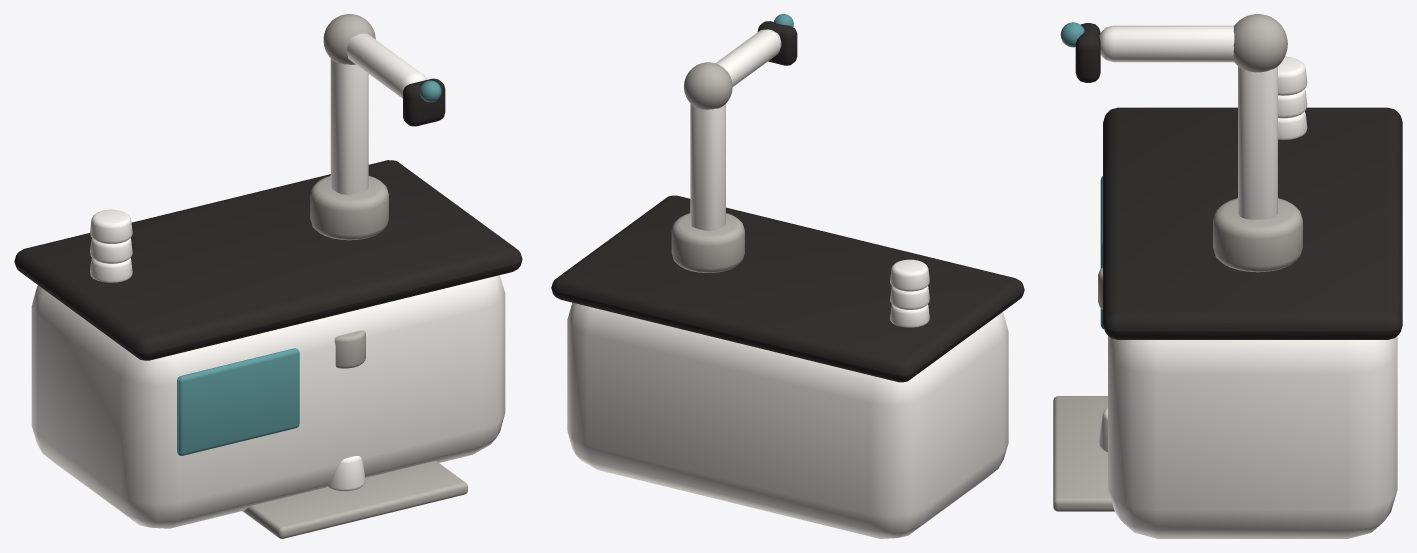
File: machine_robot.glb
The picture shows the model from 3 angles, left to right: view 1: azimuth 30°, elevation 25°; view 2: azimuth 150°, elevation 25°; view 3: azimuth 270°, elevation 25°; orthographic projection. The views are drawn at different scales.
Visible parts, largest first — view 1: caisson, bandeau, ecran, egouttoir, segment1, epaule, segment2, coude, pince, tasse_pile2, bec, tasse (+2 smaller); view 2: caisson, bandeau, segment1, epaule, coude, segment2, tasse_pile2, pince, tasse_pile1, tasse_pile0; view 3: bandeau, caisson, egouttoir, segment1, epaule, segment2, coude, pince, tasse_pile2, tasse_pile1, tasse_pile0, oeil.
Boxes of the visible parts, x1,y1,x2,y2 form: caisson: (31, 275, 505, 528); bandeau: (14, 160, 522, 360); ecran: (177, 348, 299, 455); egouttoir: (242, 461, 467, 538); segment1: (330, 58, 368, 194); epaule: (310, 176, 388, 240); segment2: (347, 33, 426, 98); coude: (323, 14, 375, 64); pince: (403, 78, 445, 126); tasse_pile2: (90, 209, 132, 243); bec: (334, 330, 365, 368); tasse: (326, 456, 365, 491); caisson: (567, 302, 1008, 538); bandeau: (551, 195, 1024, 382); segment1: (690, 103, 725, 230); epaule: (671, 213, 744, 273); coude: (684, 62, 732, 109); segment2: (715, 29, 781, 86); tasse_pile2: (890, 259, 929, 291); pince: (757, 21, 797, 65); tasse_pile1: (890, 286, 929, 309); tasse_pile0: (890, 304, 929, 327); bandeau: (1103, 107, 1402, 339); caisson: (1108, 336, 1397, 538); egouttoir: (1053, 396, 1114, 511); segment1: (1238, 66, 1277, 219); epaule: (1213, 198, 1302, 272); segment2: (1099, 25, 1234, 62); coude: (1233, 14, 1287, 72); pince: (1075, 23, 1100, 82); tasse_pile2: (1278, 56, 1307, 95); tasse_pile1: (1278, 89, 1307, 118); tasse_pile0: (1278, 111, 1307, 139); oeil: (1060, 22, 1084, 47).
Bounding box in the file's own units: 1.02 × 1.06 × 0.7.
